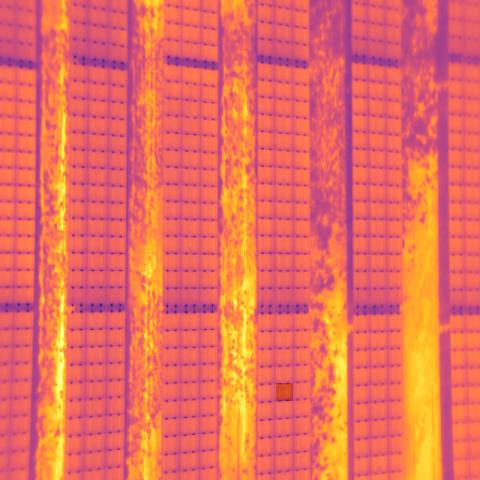fault: (276, 383, 293, 401)
